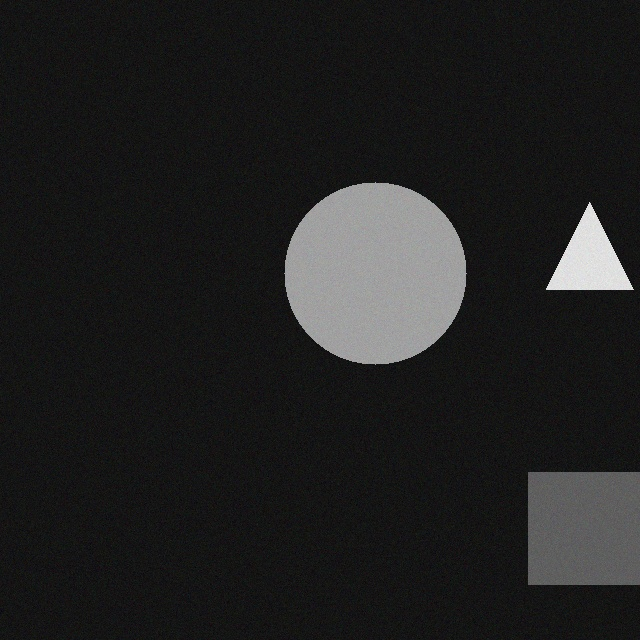circle: (269, 192, 451, 374)
square: (513, 482, 625, 594)
triangle: (531, 212, 618, 299)
